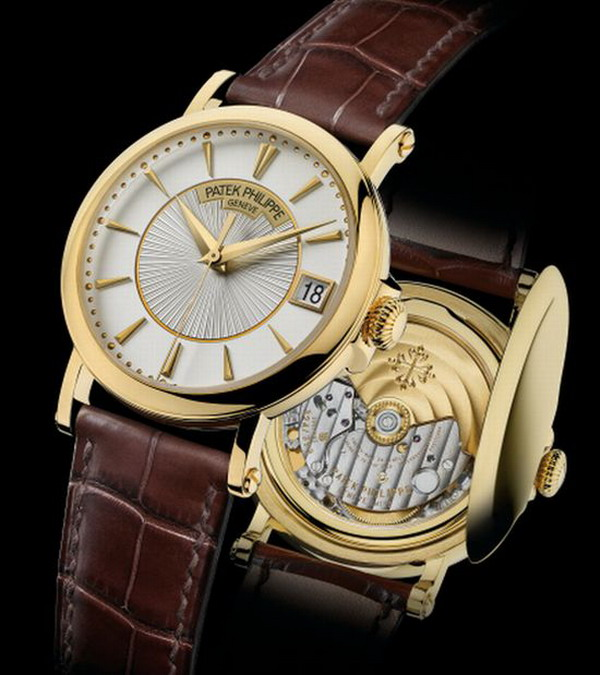clock: (75, 121, 354, 390)
